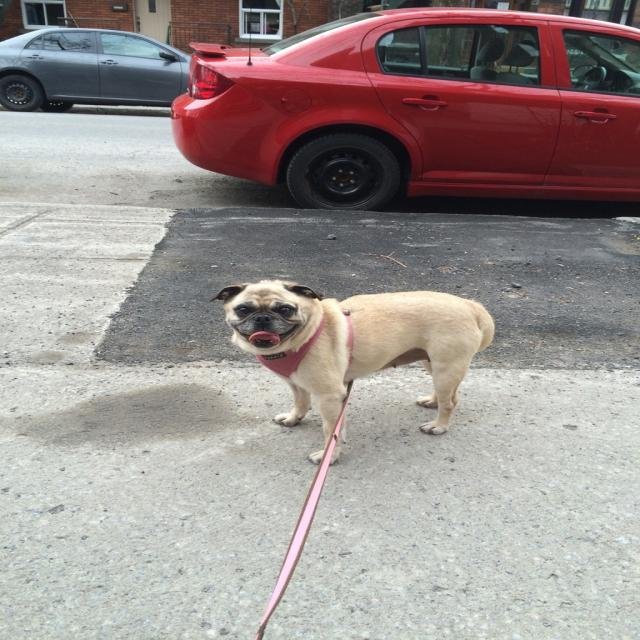car: (157, 10, 638, 212)
